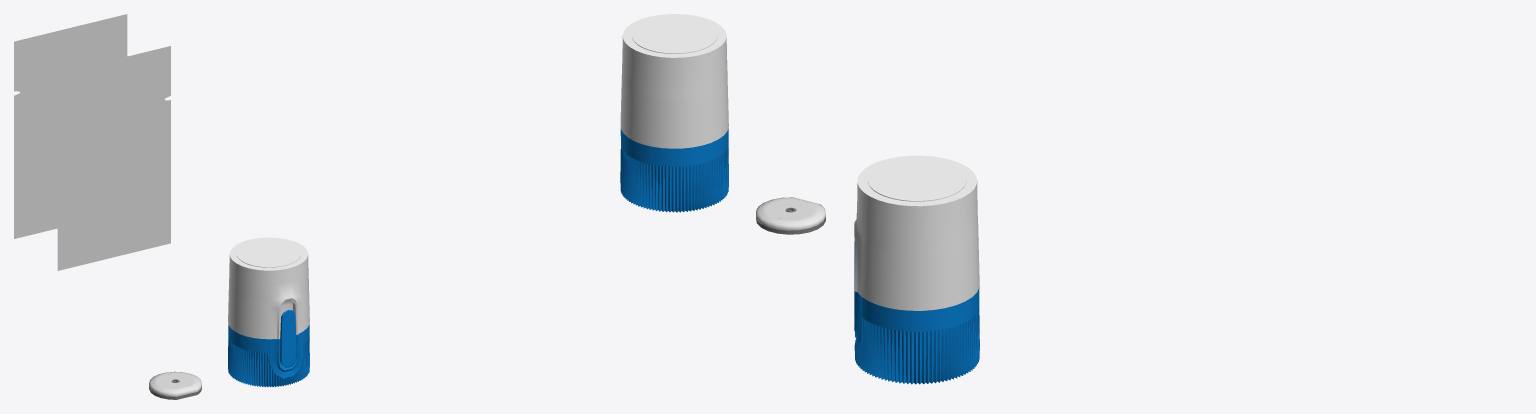
File: testproduct.gltf
The picture shows the model from 3 angles, left to right: view 1: azimuth 30°, elevation 25°; view 2: azimuth 150°, elevation 25°; view 3: azimuth 270°, elevation 25°; orthographic projection. The views are drawn at different scales.
Visible parts, largest first — view 1: Plane.001, Plane.002, Cylinder, Cylinder.001, Cylinder.006, Plane, Cylinder.002; view 2: Cylinder, Cylinder.001, Cylinder.006; view 3: Cylinder, Cylinder.001.
Part boxes in pixels (bbox=[...]): Plane.001: bbox=[57, 46, 170, 270]; Plane.002: bbox=[14, 14, 127, 238]; Cylinder: bbox=[228, 237, 309, 339]; Cylinder.001: bbox=[228, 324, 309, 387]; Cylinder.006: bbox=[149, 371, 201, 396]; Plane: bbox=[280, 309, 296, 367]; Cylinder.002: bbox=[268, 331, 303, 378]; Cylinder: bbox=[620, 14, 728, 148]; Cylinder.001: bbox=[620, 128, 728, 212]; Cylinder.006: bbox=[756, 197, 825, 230]; Cylinder: bbox=[854, 155, 979, 310]; Cylinder.001: bbox=[854, 287, 979, 384].
Bounding box in the file's own units: 0.1347 × 0.1501 × 0.3008.
